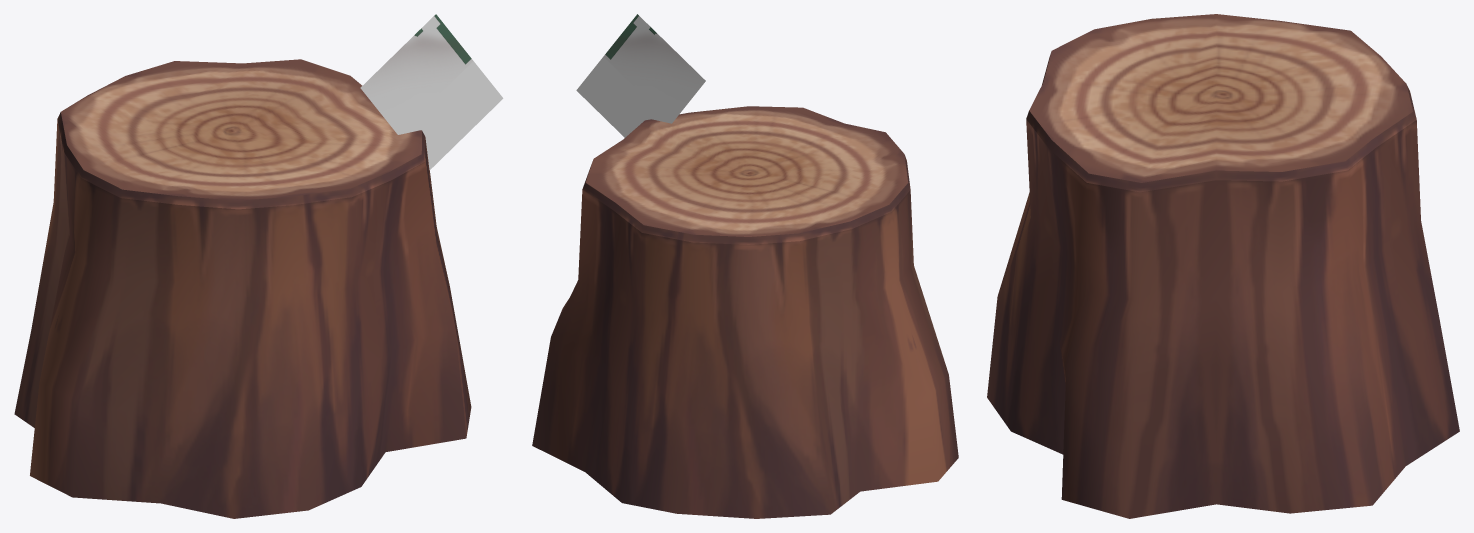
The model's file is stump_04.fbx.
The picture shows the model from 3 angles, left to right: view 1: azimuth 30°, elevation 25°; view 2: azimuth 150°, elevation 25°; view 3: azimuth 270°, elevation 25°; orthographic projection. The views are drawn at different scales.
Visible parts, largest first — view 1: Cylinder013, leaf_2223; view 2: Cylinder013, leaf_2223; view 3: Cylinder013.
Boxes of the visible parts, x1,y1,x2,y2 form: Cylinder013: (14,59,471,518); leaf_2223: (360,14,503,170); Cylinder013: (532,106,958,518); leaf_2223: (576,14,705,137); Cylinder013: (987,14,1459,518).
Bounding box in the file's own units: 99.39 × 86.81 × 85.41.
